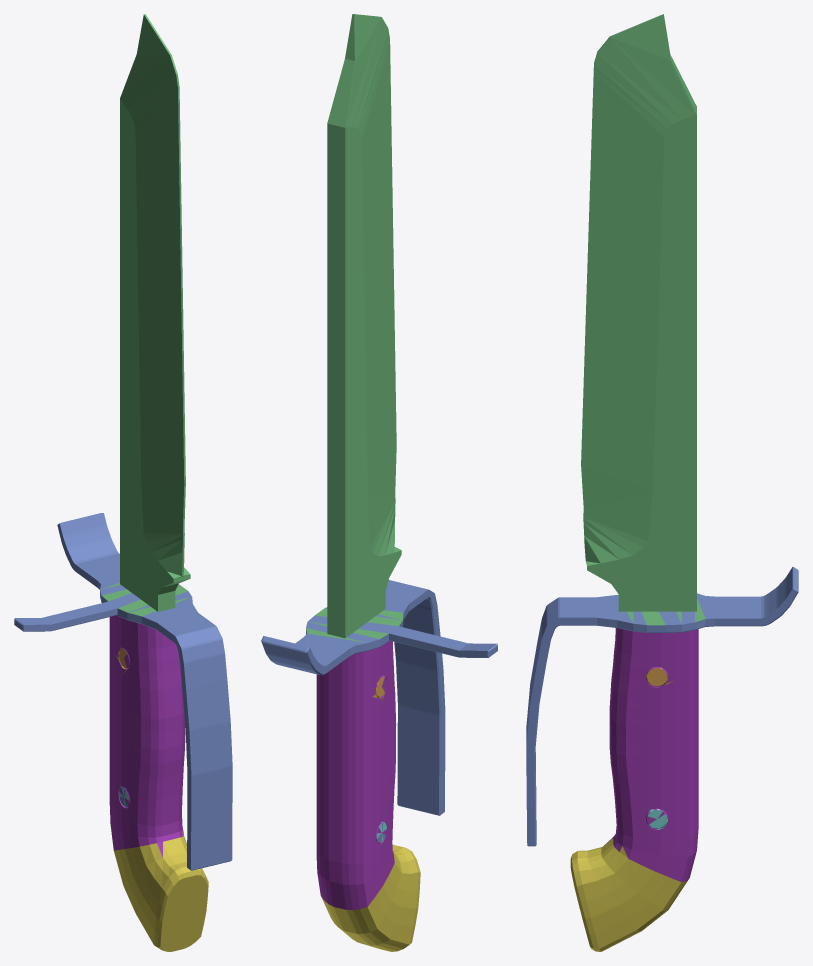
The picture shows the model from 3 angles, left to right: view 1: azimuth 30°, elevation 25°; view 2: azimuth 150°, elevation 25°; view 3: azimuth 270°, elevation 25°; orthographic projection. The views are drawn at different scales.
Parts seen in each view (by area): view 1: world; view 2: world; view 3: world.
Boxes of the visible parts, left/top/right/bottom form: world: left=14, top=14, right=232, bottom=951; world: left=261, top=14, right=497, bottom=951; world: left=526, top=14, right=798, bottom=951.
Size of the model in its own units: 0.0345 by 0.182 by 0.0481.
